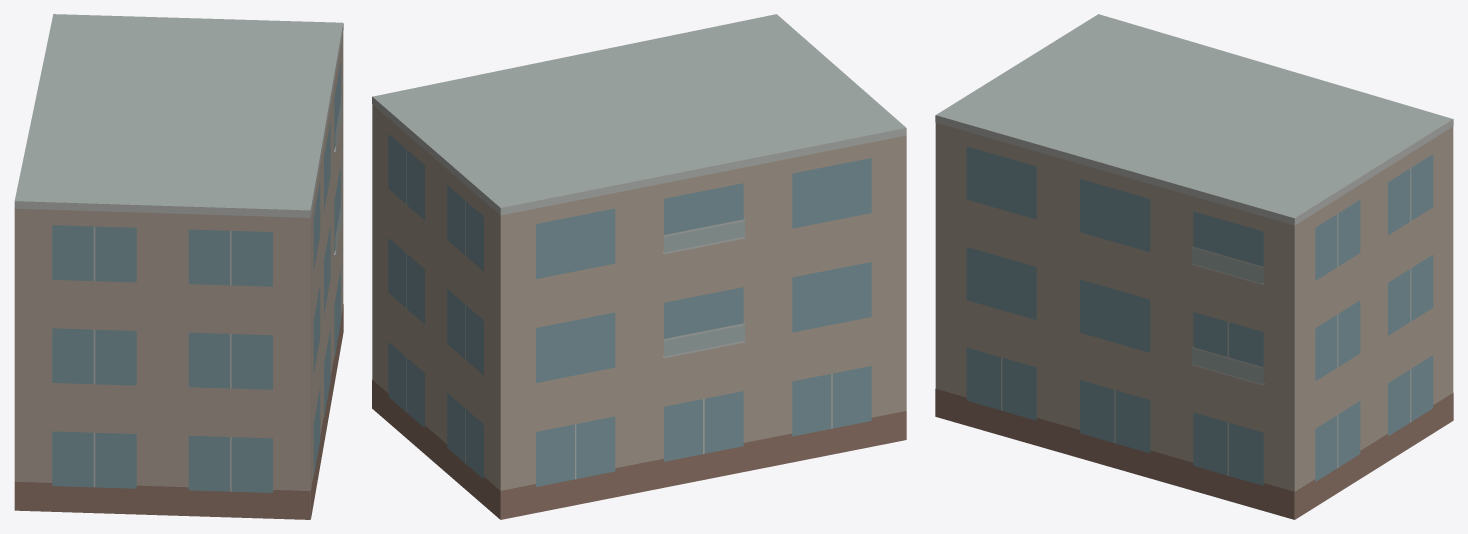
File: survey-upis-32488087.glb
3 renders of one model, left to right at view 1: azimuth 30°, elevation 25°; view 2: azimuth 150°, elevation 25°; view 3: azimuth 270°, elevation 25°, orthographic. The views are drawn at different scales.
Visible parts, largest first — view 1: survey-upis-32488087.tmp; view 2: survey-upis-32488087.tmp; view 3: survey-upis-32488087.tmp.
Boxes of the visible parts, box(x1,y1,x2,y2) form: survey-upis-32488087.tmp: box(14, 14, 343, 519); survey-upis-32488087.tmp: box(372, 14, 906, 519); survey-upis-32488087.tmp: box(935, 14, 1453, 519).
Bounding box in the file's own units: 14.68 × 10.1 × 15.73.
